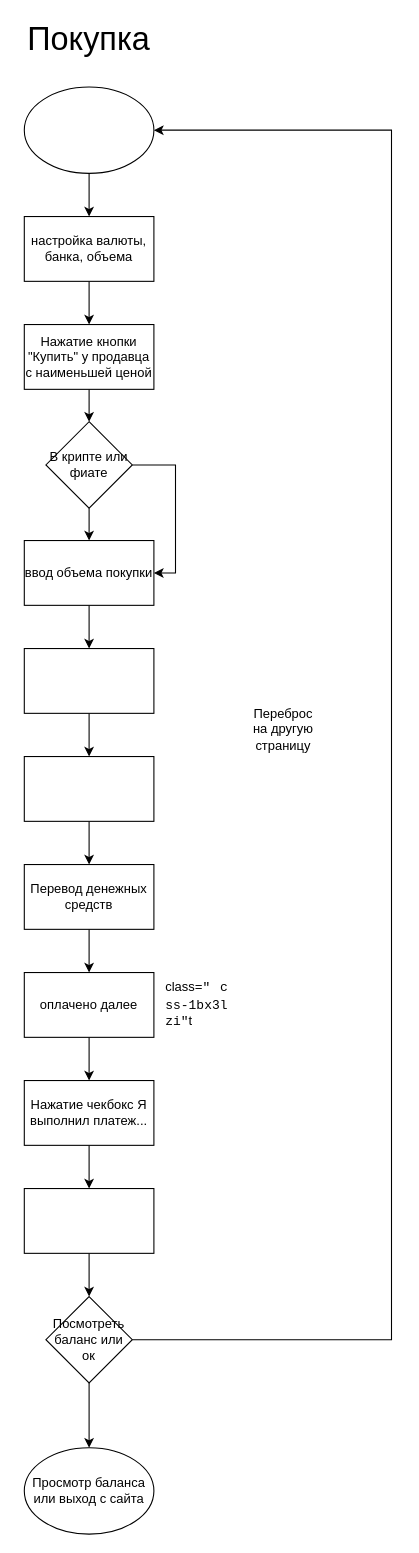
The diagram is 419 pixels wide and 1553 high, and some of its shapes have lost their labels. The shapes that lost their labels are listed below. From the top down, each one's centre as x and y in pixels, then its label:
pixel 88 129: Странца Binance p2p
pixel 88 680: купить
pixel 88 788: Копировать номер карты
pixel 88 1220: Подтвердить далее
